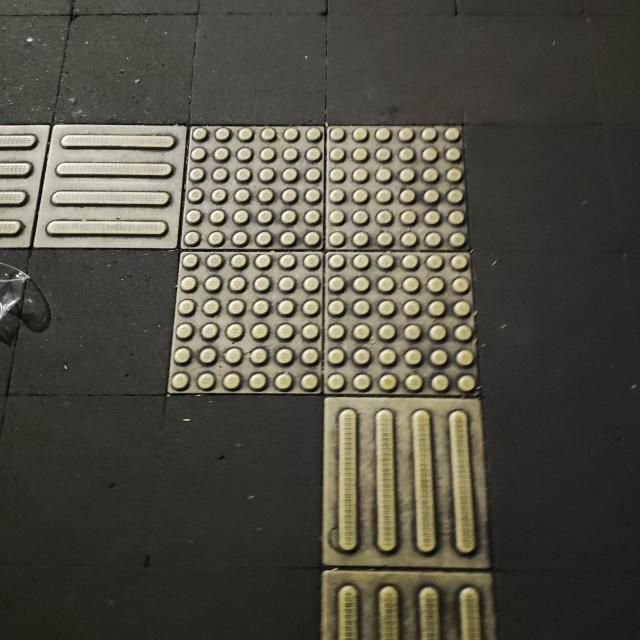kiri: (0, 104, 549, 481)
